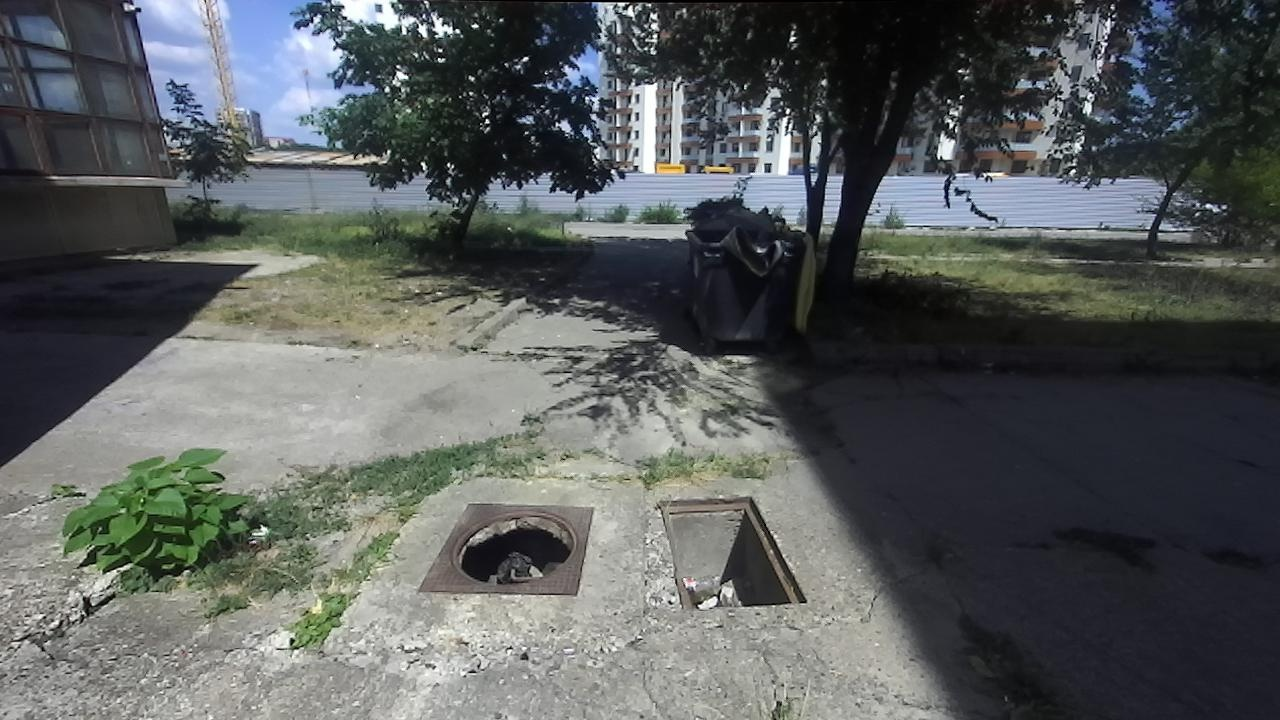drain: (652, 496, 813, 610), (445, 502, 580, 587)
